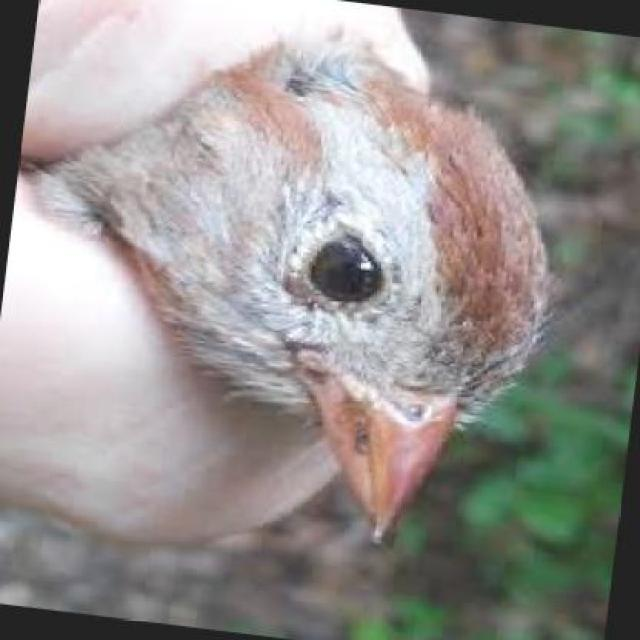Bird: (50, 50, 560, 553)
